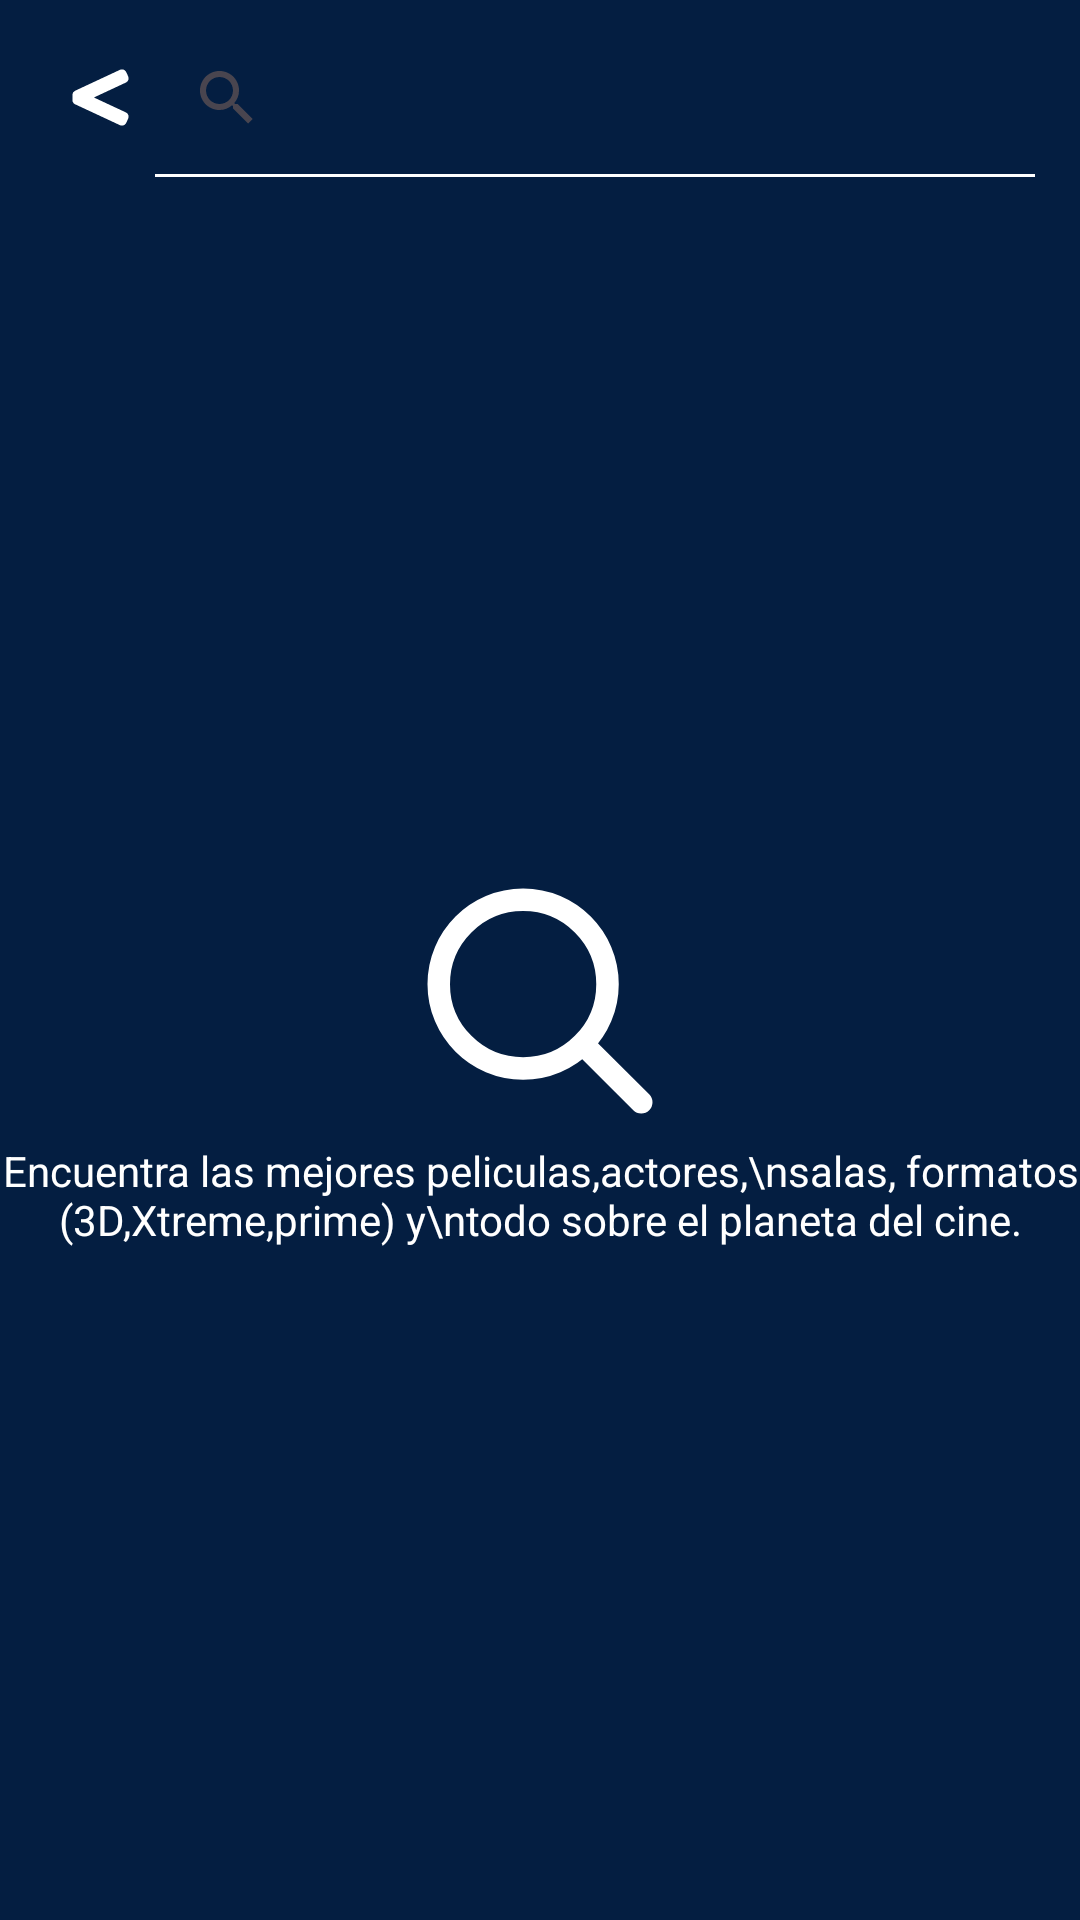

Icons on this 1080px×1920px Android screen, each with the point to tap as (x,y):
less: (100,97)
search: (540,1001)
